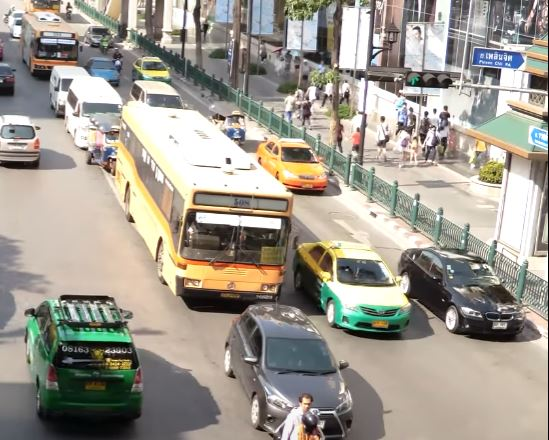Bus: (113, 103, 294, 309), (63, 76, 125, 150), (19, 12, 80, 77), (49, 65, 92, 118)
Car: (223, 302, 354, 440), (22, 293, 144, 424), (397, 245, 528, 340), (290, 237, 413, 336), (254, 134, 329, 193), (1, 113, 42, 167), (132, 55, 171, 86), (88, 57, 122, 85), (1, 62, 16, 95)
Motorcycle: (97, 33, 110, 53)
TukTuk: (87, 111, 122, 174), (207, 100, 247, 148)
